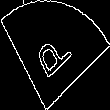P_SW: (32, 24, 78, 86)
